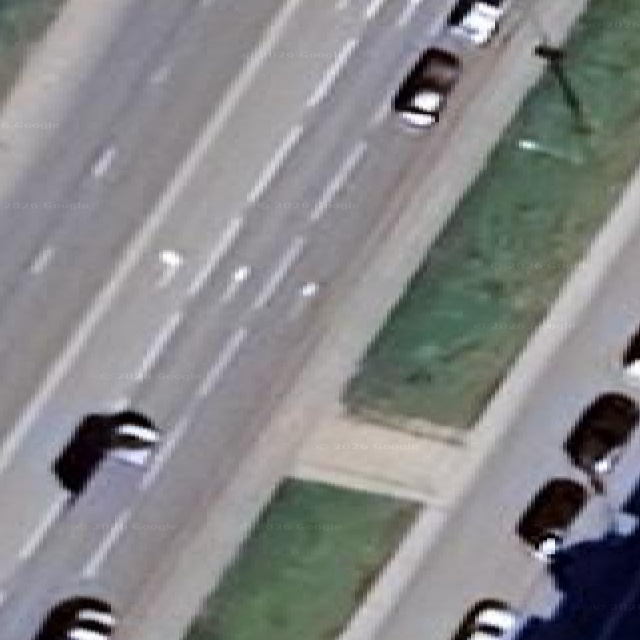car: (52, 412, 159, 492), (564, 392, 639, 477), (516, 479, 586, 560), (393, 48, 460, 127), (33, 596, 115, 639), (452, 600, 517, 639), (448, 0, 504, 44), (111, 420, 159, 466), (533, 528, 562, 560), (624, 329, 639, 384)
